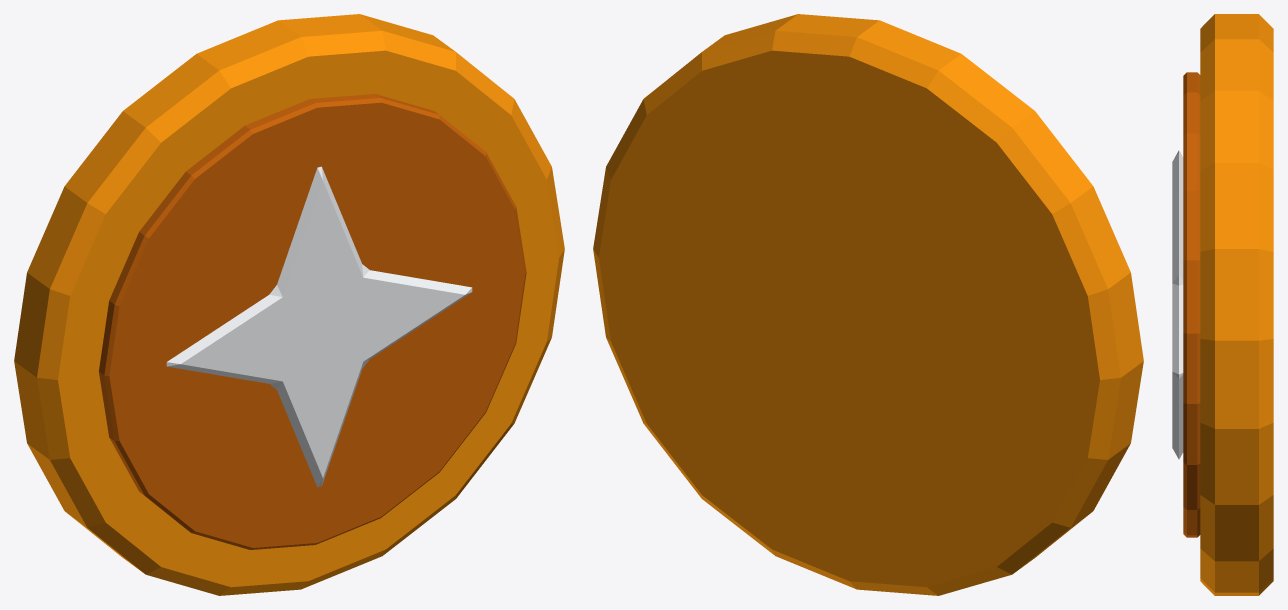
The model's file is PROP_coin__v001__model.fbx.
3 views of the same model, side by side, from view 1: azimuth 30°, elevation 25°; view 2: azimuth 150°, elevation 25°; view 3: azimuth 270°, elevation 25° (orthographic). The views are drawn at different scales.
Visible parts, largest first — view 1: PROP_coin_Mesh; view 2: PROP_coin_Mesh; view 3: PROP_coin_Mesh.
Part boxes in pixels (x1=…): PROP_coin_Mesh: x1=14, y1=14, x2=564, y2=595; PROP_coin_Mesh: x1=593, y1=14, x2=1143, y2=595; PROP_coin_Mesh: x1=1172, y1=14, x2=1273, y2=595.
Bounding box in the file's own units: 0.8 × 0.8 × 0.138.
1 material, 1 textured.
